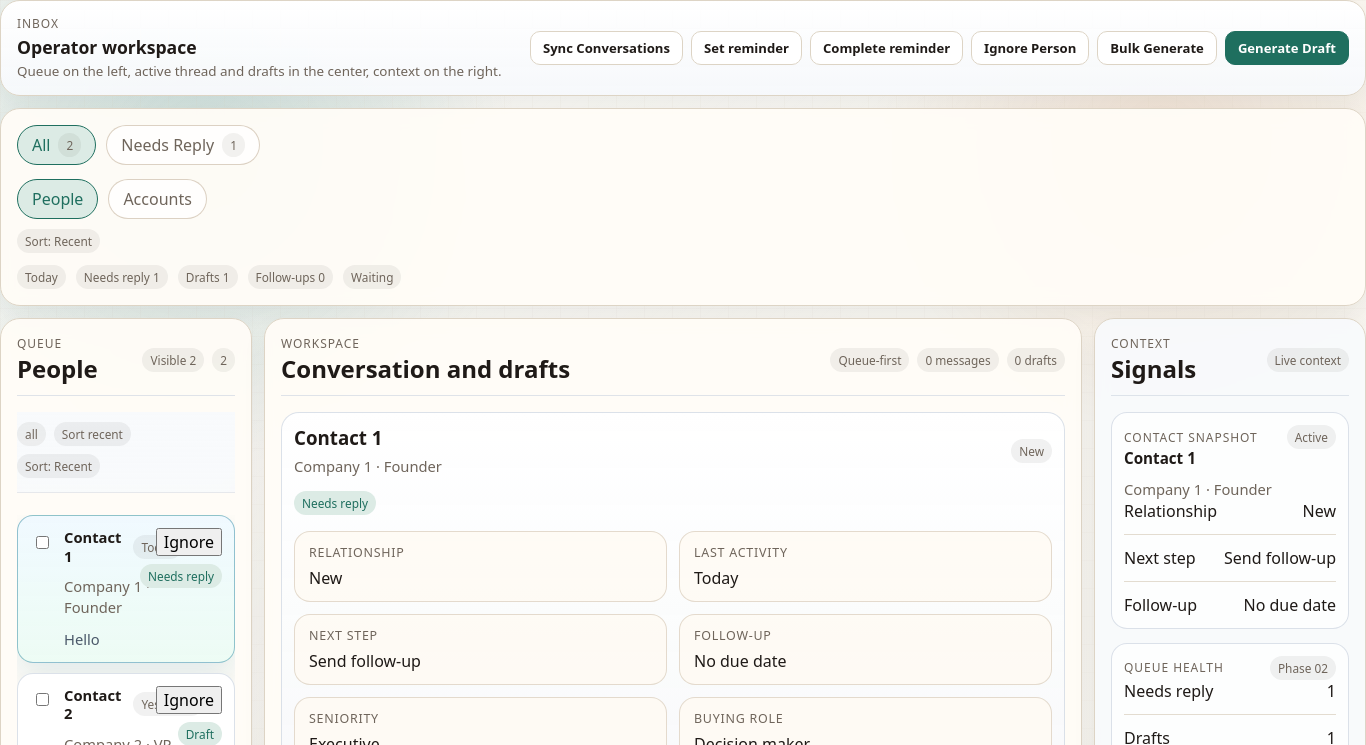
Test: InboxWorkspace bulk draft flow › enables bulk generation after selecting people and opens the modal
The image size is (1366, 745).
Expected: the button "Bulk Generate" is disabled, [1097,31,1217,65]
Click the button named "Select Contact 1" at (42, 542), box [30,530,54,554]
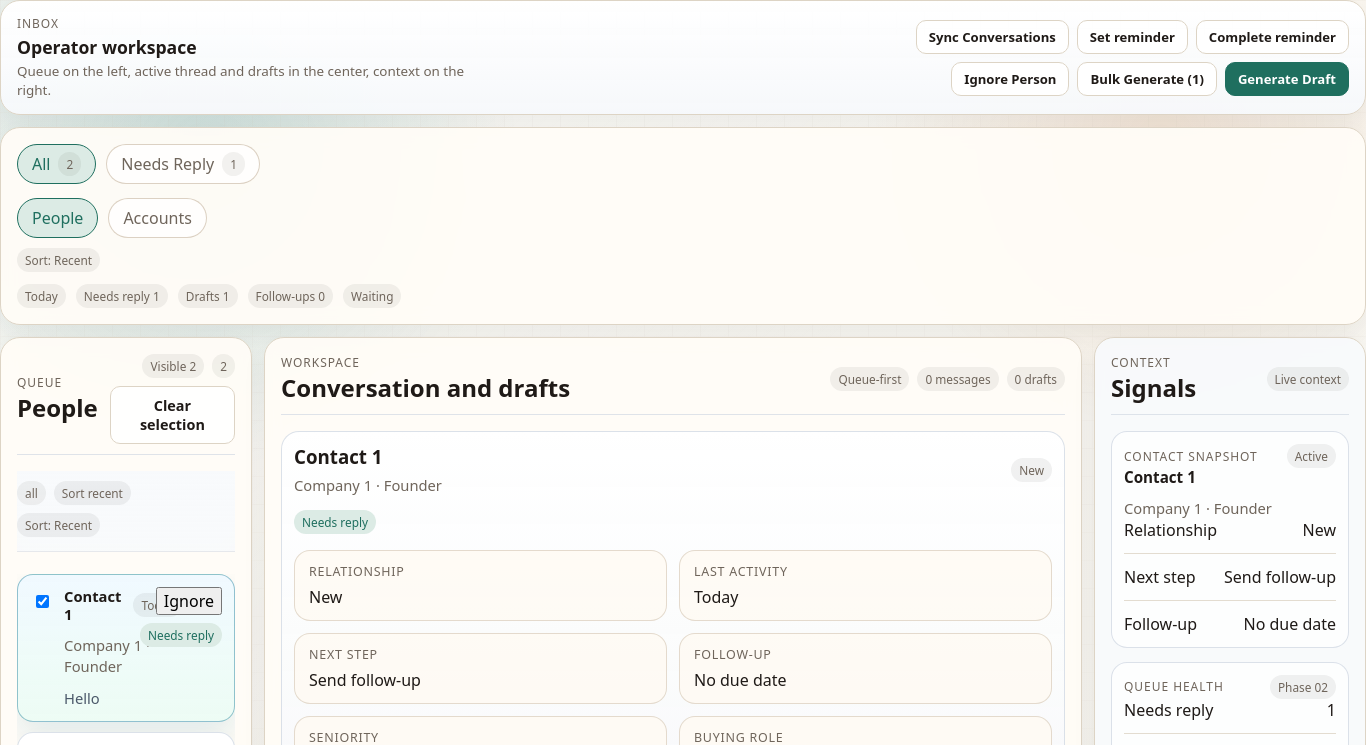
Result: the button "Bulk Generate (1)" is enabled
Click the button "Bulk Generate (1)" at (1147, 78), box [1078,62,1217,96]
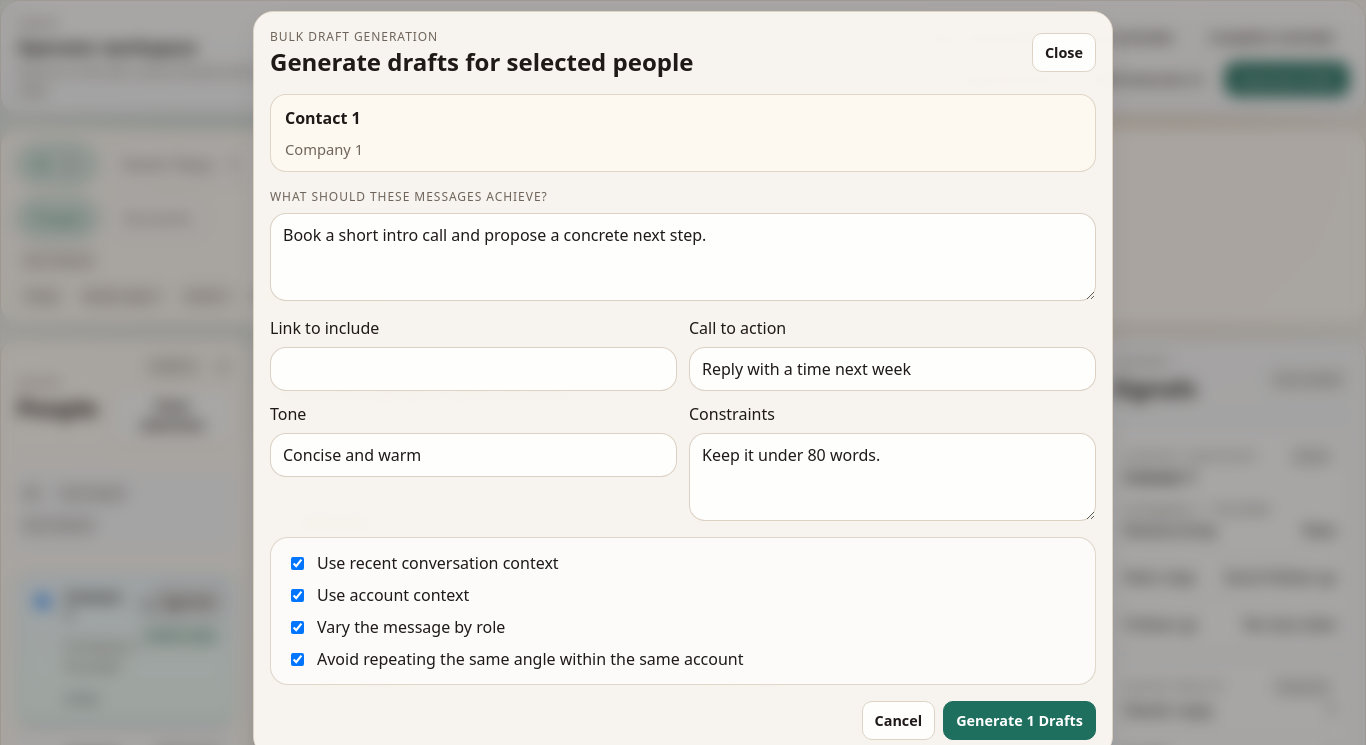
Expected: the text "Contact 1" below "Visible" is shown, [64,586,121,624]
Result: the heading "Generate drafts for selected people" is shown at [270,45,693,78]
